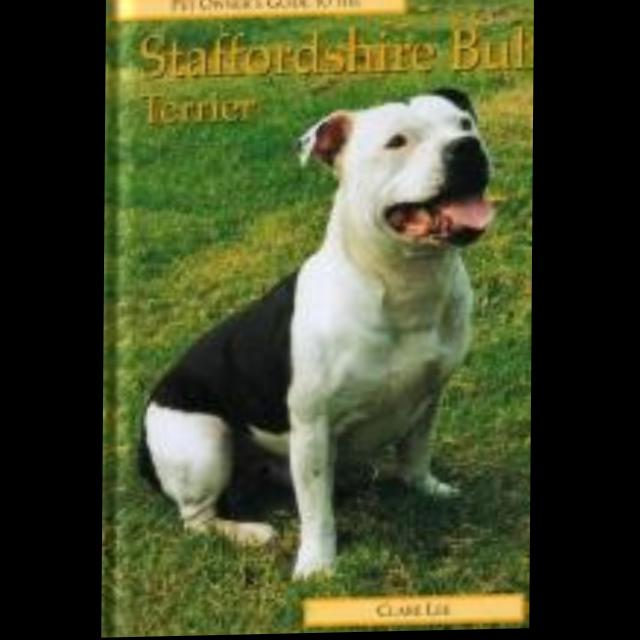staffford: (136, 86, 500, 589)
